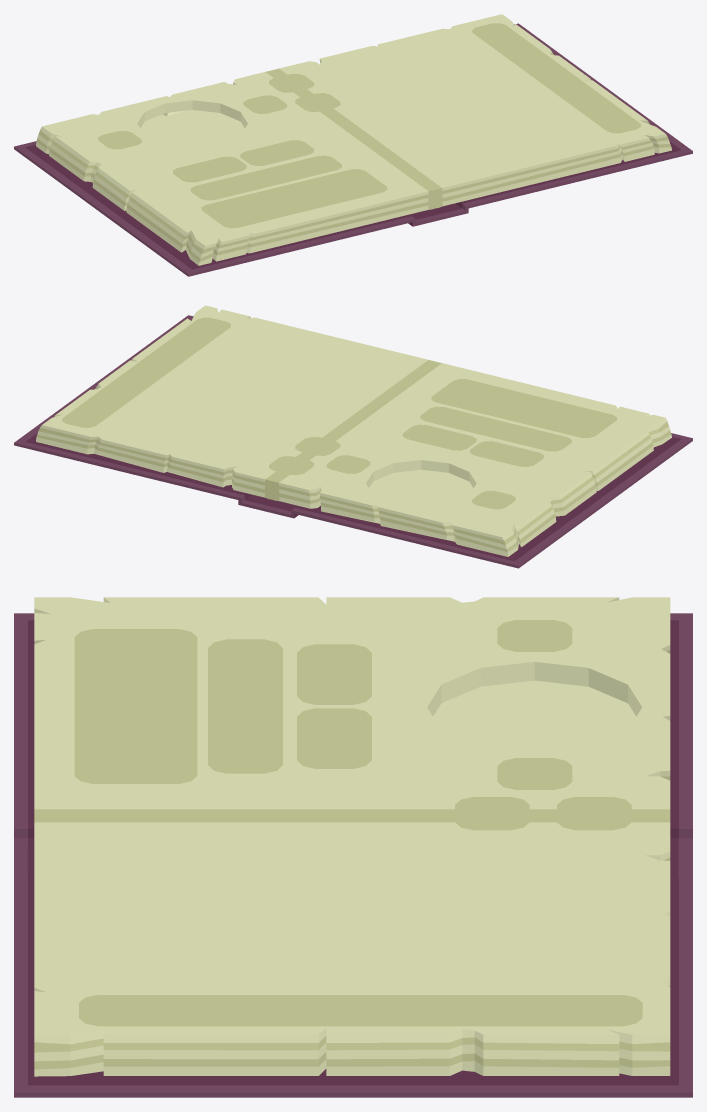
The model's file is roulette_book.glb.
The picture shows the model from 3 angles, top to bottom: view 1: azimuth 30°, elevation 25°; view 2: azimuth 150°, elevation 25°; view 3: azimuth 270°, elevation 25°; orthographic projection. The views are drawn at different scales.
Parts seen in each view (by area): view 1: roulette_left_cover, roulette_right_cover, roulette_bottom_cover; view 2: roulette_left_cover, roulette_right_cover, roulette_bottom_cover; view 3: roulette_right_cover, roulette_left_cover, roulette_bottom_cover.
Part boxes in pixels (bbox=[...]): roulette_left_cover: bbox=[14, 70, 440, 276]; roulette_right_cover: bbox=[272, 14, 692, 219]; roulette_bottom_cover: bbox=[269, 74, 465, 223]; roulette_left_cover: bbox=[266, 361, 692, 568]; roulette_right_cover: bbox=[14, 305, 434, 511]; roulette_bottom_cover: bbox=[241, 437, 340, 514]; roulette_right_cover: bbox=[14, 816, 692, 1097]; roulette_left_cover: bbox=[14, 597, 692, 861]; roulette_bottom_cover: bbox=[14, 797, 692, 876].
Bounding box in the file's own units: 3.74 × 0.1955 × 2.24.
Materials: 1 (1 with a texture image).
